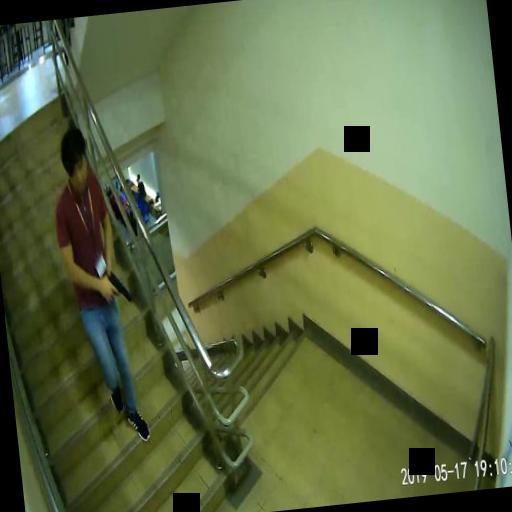Handgun: (105, 268, 130, 302)
